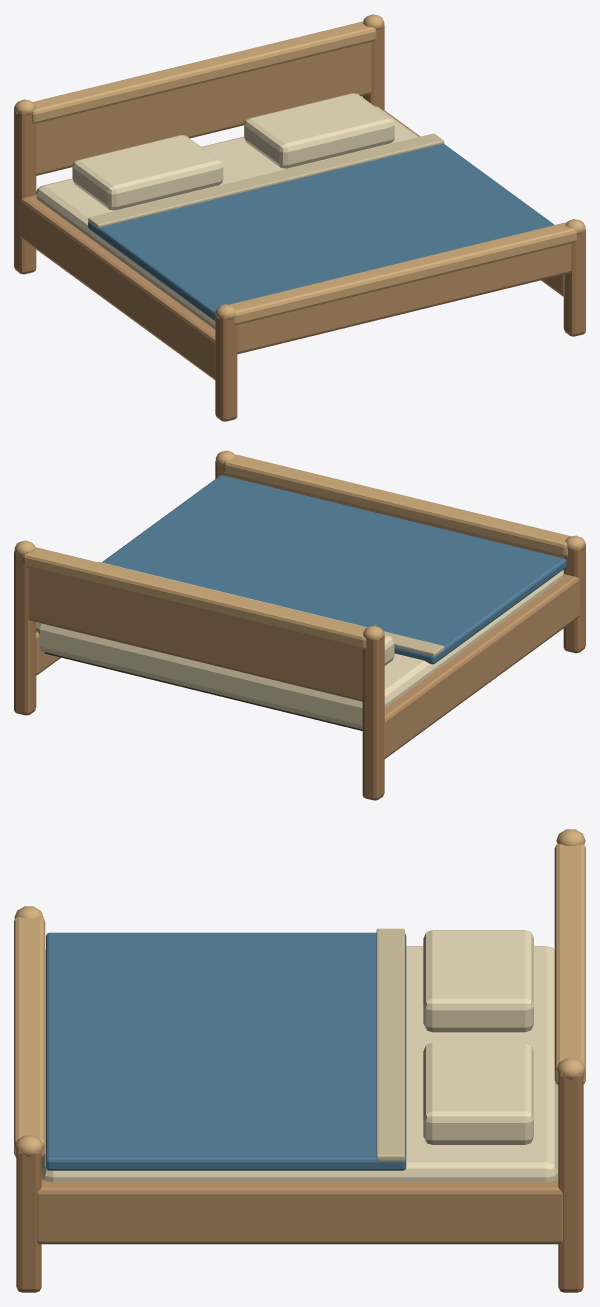
The model's file is bed_double_2x2m.glb.
The picture shows the model from 3 angles, top to bottom: view 1: azimuth 30°, elevation 25°; view 2: azimuth 150°, elevation 25°; view 3: azimuth 270°, elevation 25°; orthographic projection. The views are drawn at different scales.
Parts seen in each view (by area): view 1: bed_double_2x2m; view 2: bed_double_2x2m; view 3: bed_double_2x2m.
Part boxes in pixels (x1=…): bed_double_2x2m: x1=14, y1=14, x2=585, y2=421; bed_double_2x2m: x1=14, y1=450, x2=585, y2=800; bed_double_2x2m: x1=14, y1=829, x2=585, y2=1292.
Size of the model in its own units: 2.01 by 0.895 by 2.02.
